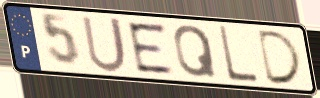5: (37, 12, 84, 72)
D: (256, 28, 305, 86)
E: (124, 20, 177, 75)
L: (216, 24, 261, 86)
Q: (172, 23, 219, 80)
U: (79, 14, 129, 75)
